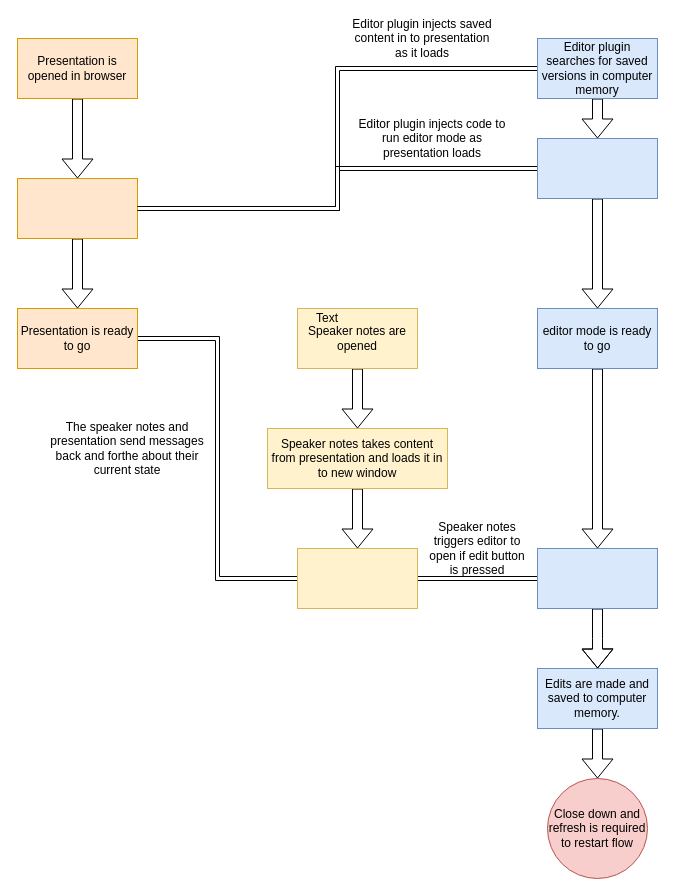
The diagram is 675 pixels wide and 896 high, and some of its shapes have lost their labels. Each missing label, with the centre of its shape:
"editor mode is opened" goes at pixel 597 578.
"Editor plugin runs set up code" goes at pixel 597 168.
"Presentation content is loaded in to computer memory" goes at pixel 77 208.
"Speaker notes is ready to go" goes at pixel 357 578.
